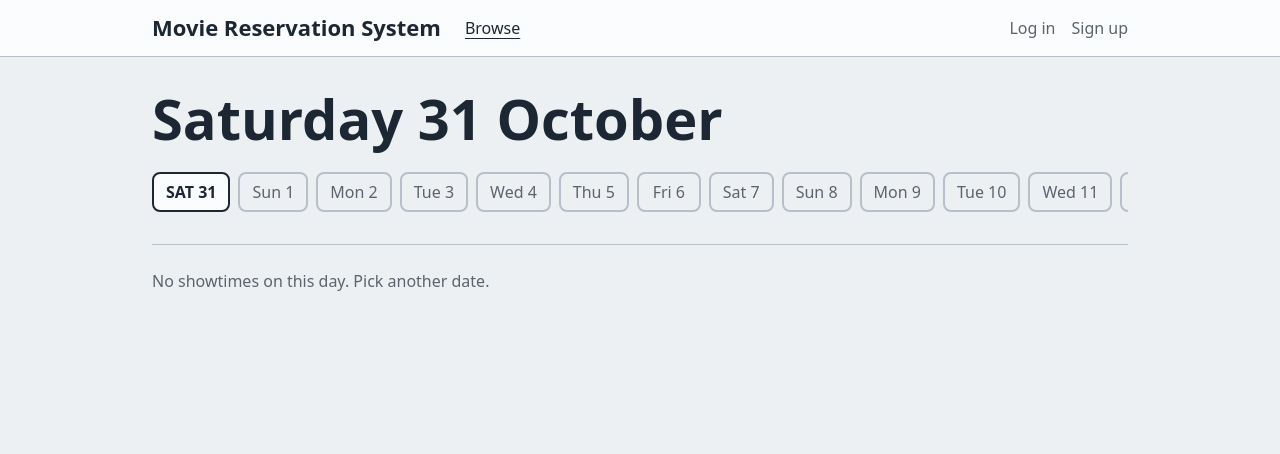
Test case: browse › browse_empty_day_and_error_with_retry
The width and height of the screenshot is (1280, 454).
Expected: the text "No showtimes on this day. Pick another date." is shown, [152,244,1128,293]
Click the link "Sun 1": [273, 192] box [238,172,308,212]
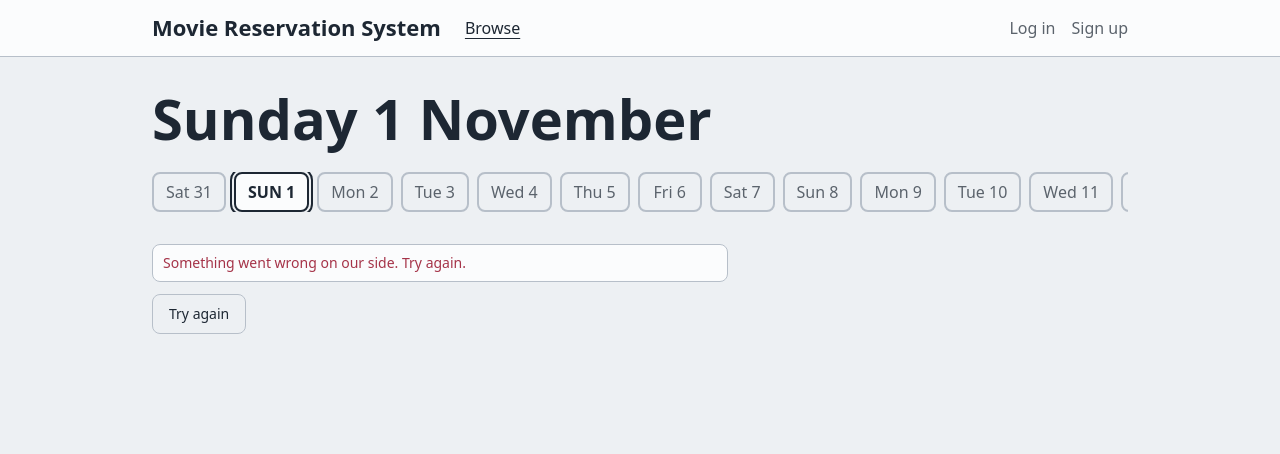
Expected: the text "Something went wrong on our side. Try again." is shown, [163,253,466,272]
Click the button "Try again": [199, 314] box [152,294,246,334]
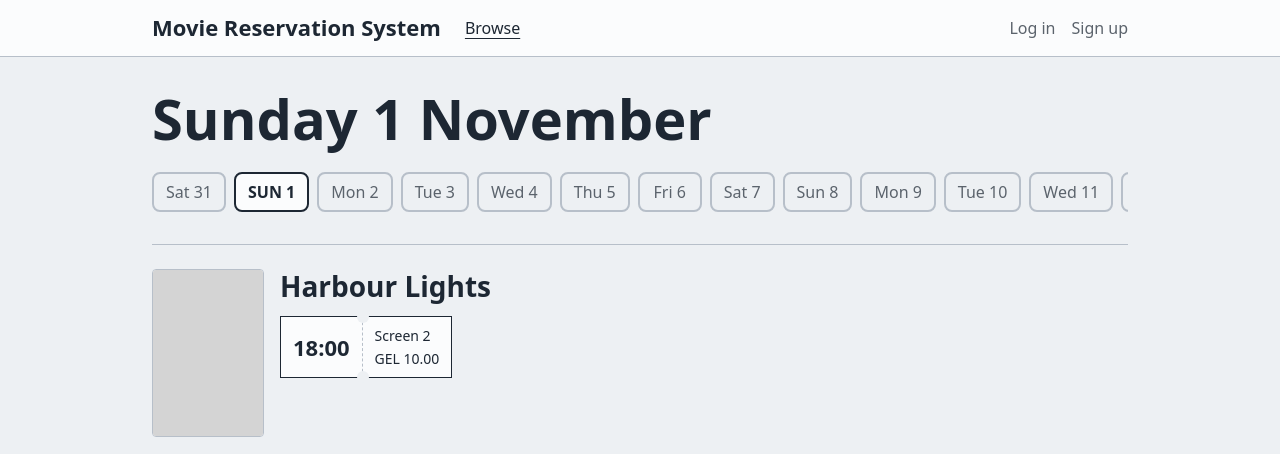
Expected: the element "Harbour Lights" is shown, [152,267,491,437]
Expected: the text "Something went wrong on our side. Try again." is gone
